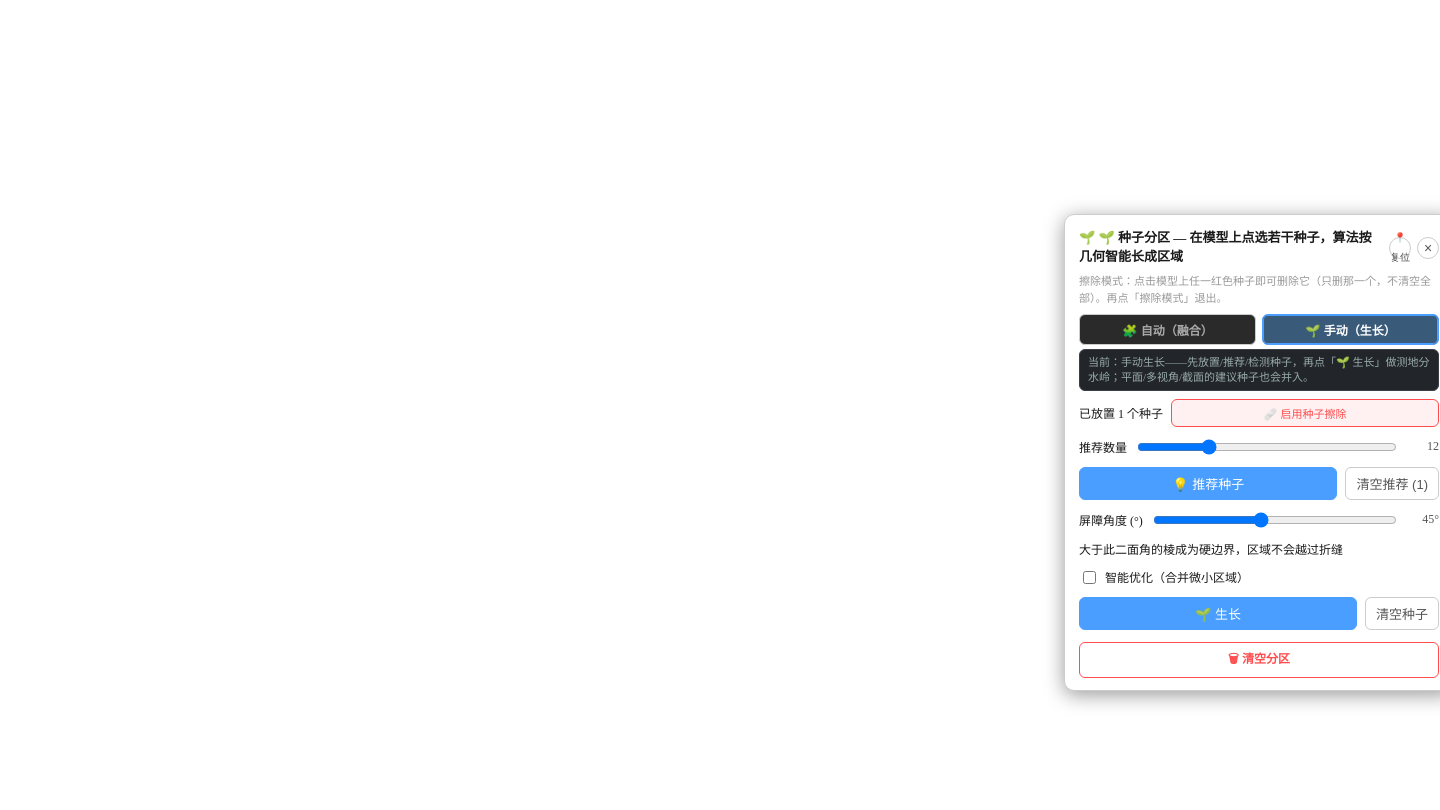
Test: SeedPanel.onResetAll — issue #28 in-app confirm › 点「清空分区」 → 先弹应用内确认框，确认后才调 reset_segmentation + 清 transient
Step 1. Click the button "🗑 清空分区" → (1259, 660), box [1079,642,1439,678]
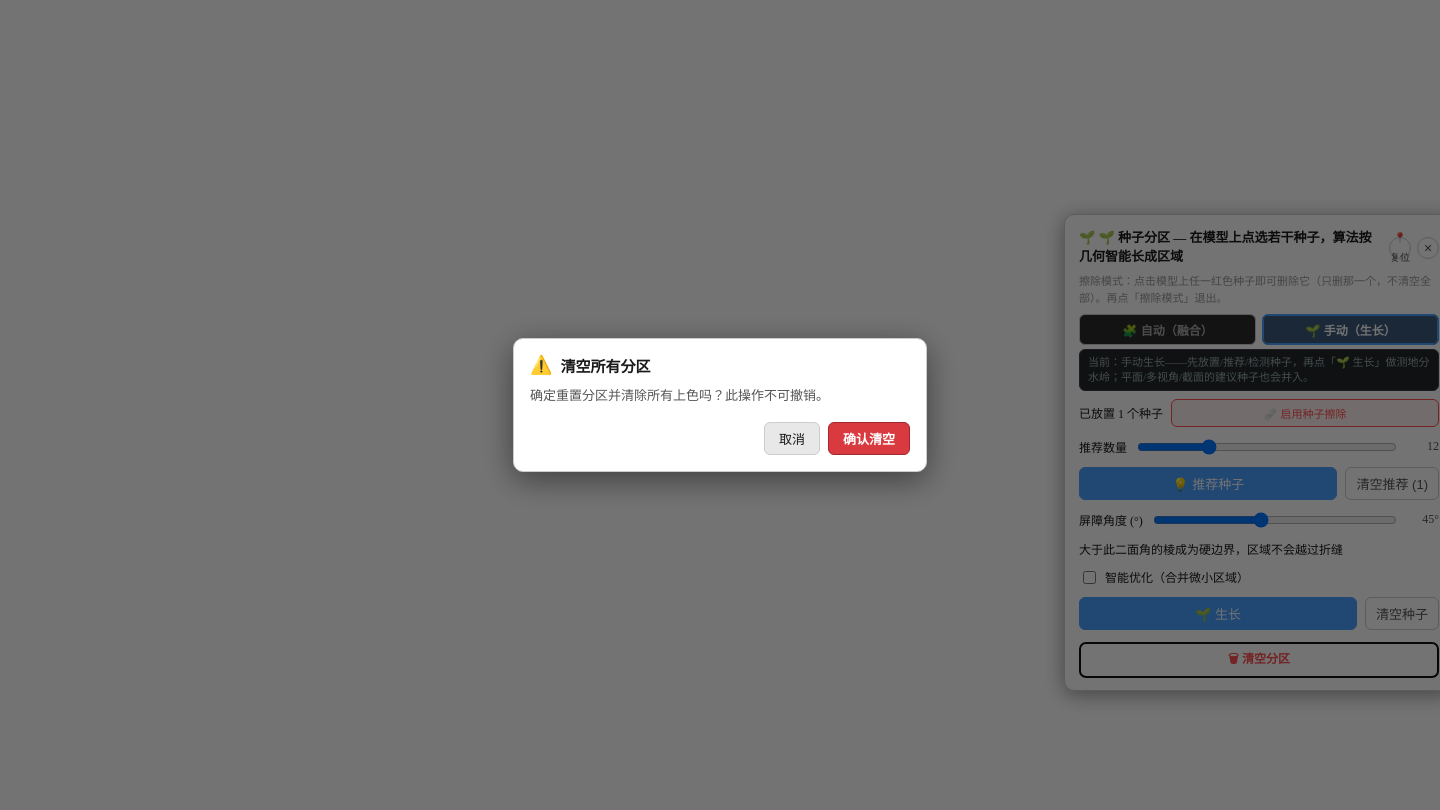
Expected: the text "清空所有分区" is shown, [560,355,650,376]
Step 2. Click the button "确认清空" → (869, 439), box [828,422,910,455]
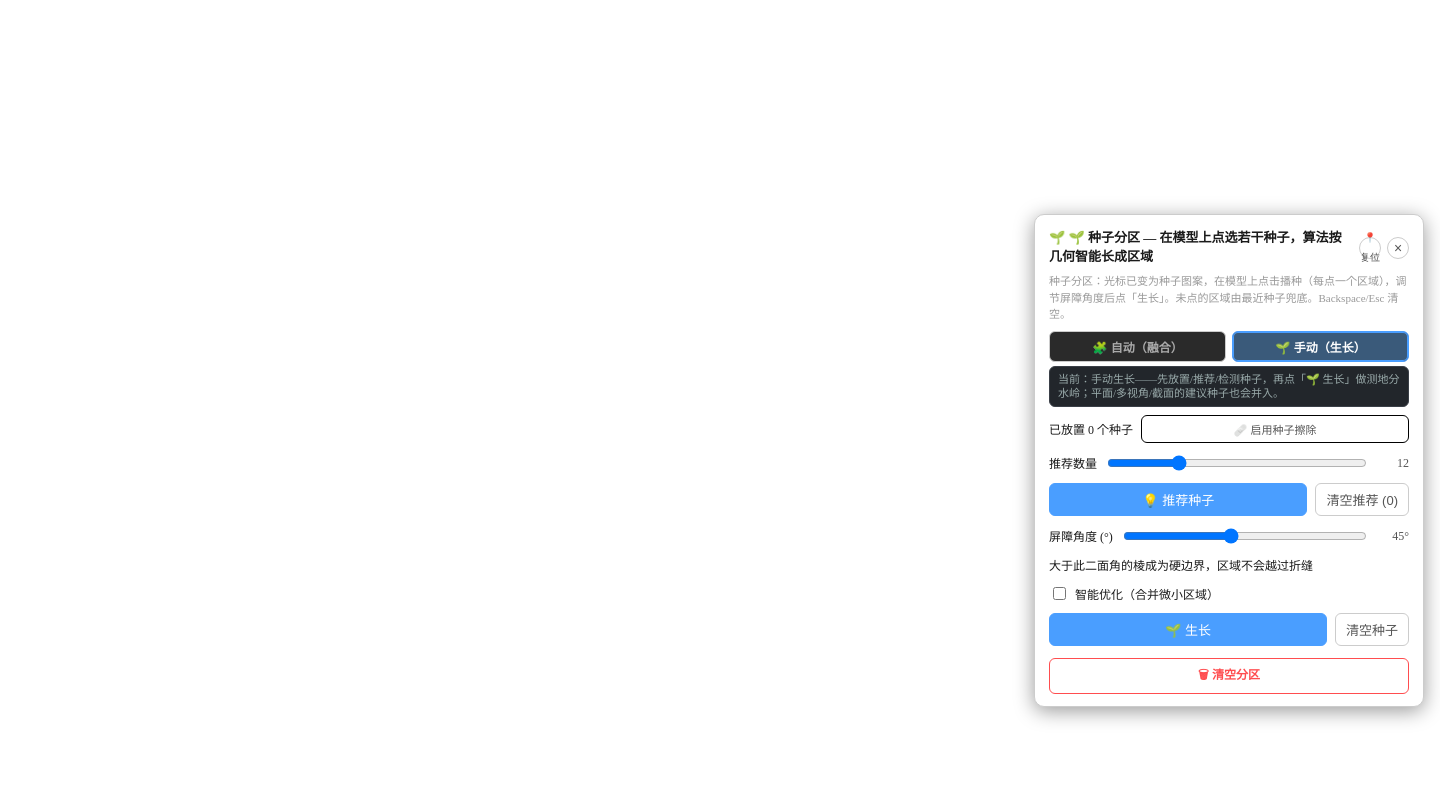
Expected: the text "清空所有分区" is gone
